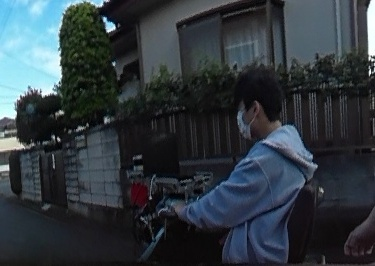person: (188, 66, 313, 266)
